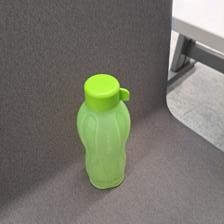bottle: (73, 70, 133, 188)
